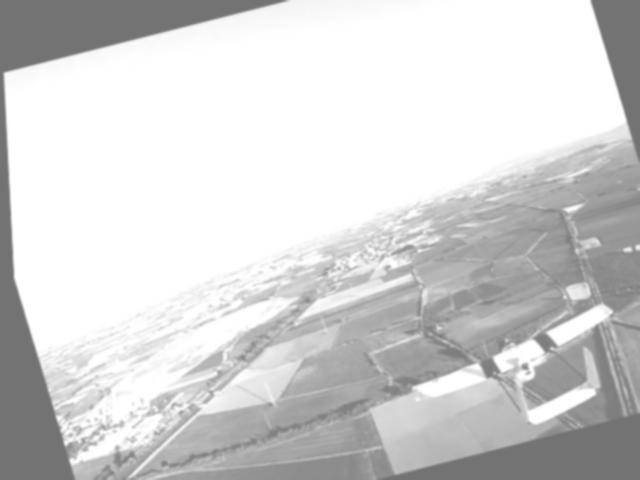hedef: (385, 287, 638, 461)
